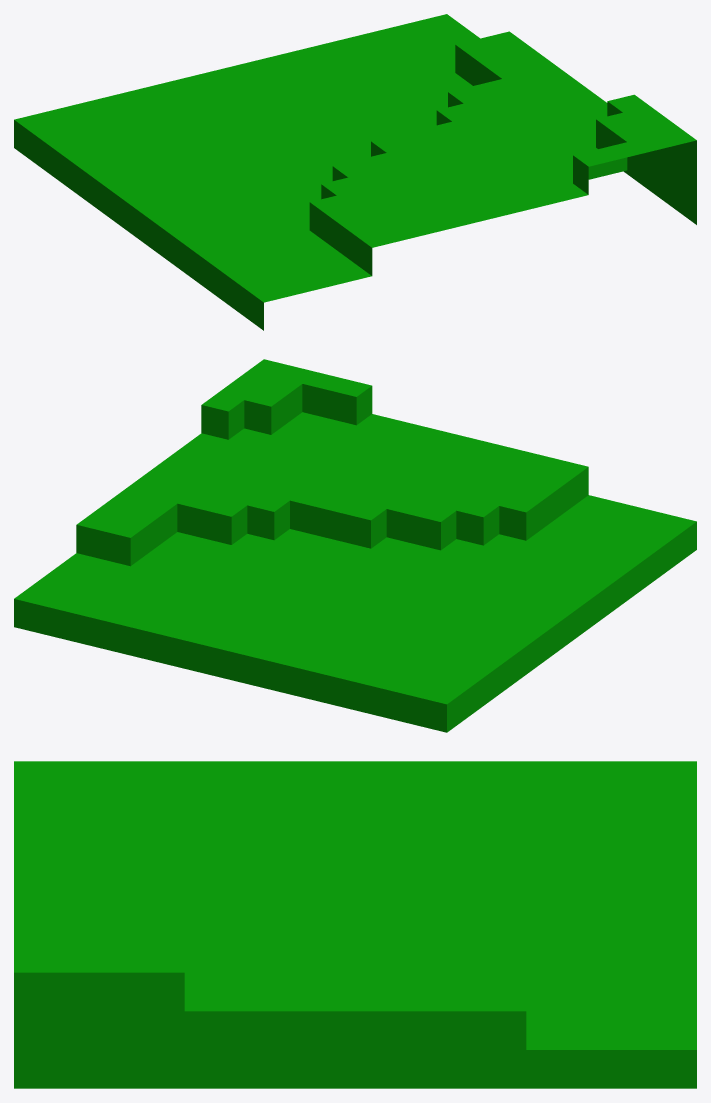
The model's file is Corner13.fbx.
3 renders of one model, top to bottom at view 1: azimuth 30°, elevation 25°; view 2: azimuth 150°, elevation 25°; view 3: azimuth 270°, elevation 25°, orthographic. The views are drawn at different scales.
Visible parts, largest first — view 1: Matrix; view 2: Matrix; view 3: Matrix.
Part boxes in pixels (bbox=[...]): Matrix: bbox=[14, 14, 696, 330]; Matrix: bbox=[14, 359, 696, 732]; Matrix: bbox=[14, 761, 696, 1088].
Bounding box in the file's own units: 16 × 3 × 16.
Materials: 1 (1 with a texture image).
